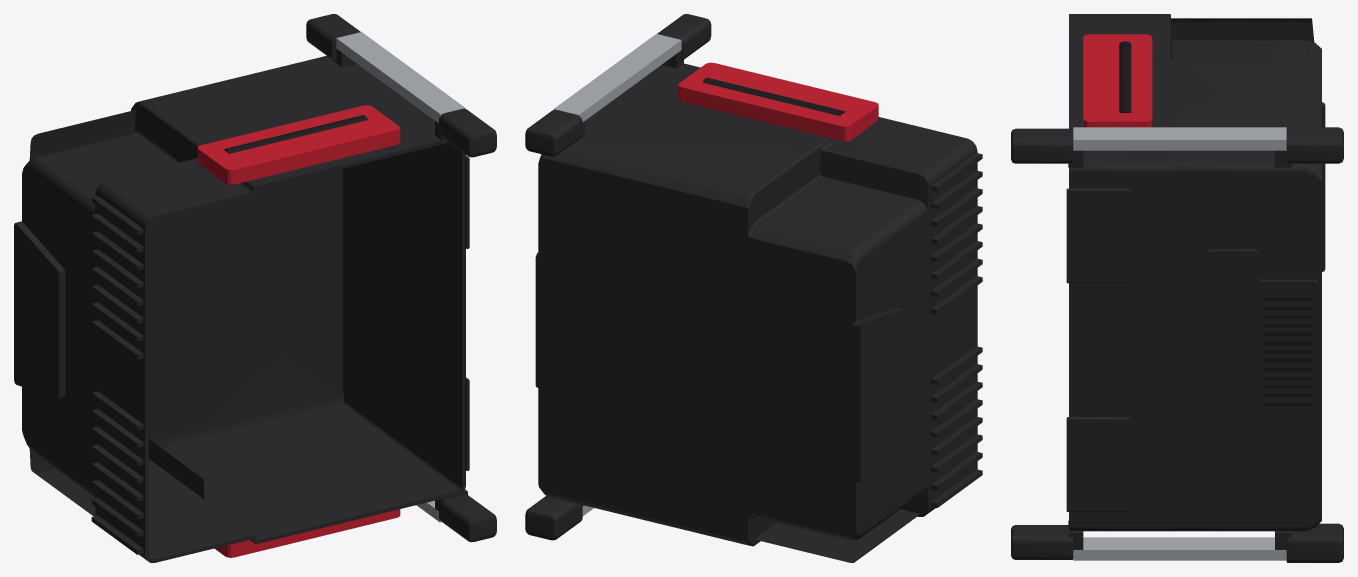
The picture shows the model from 3 angles, left to right: view 1: azimuth 30°, elevation 25°; view 2: azimuth 150°, elevation 25°; view 3: azimuth 270°, elevation 25°; orthographic projection. The views are drawn at different scales.
Parts seen in each view (by area): view 1: vana, bocni_madlo_ram_P, zad_opirka, lista_P, lista_hlavice_h_P, lista_hlavice_h_L, bocni_madlo_ram_L, lista_hlavice_d_P, bocni_madlo_uchop_P; view 2: vana, bocni_madlo_ram_P, zad_opirka, lista_P, lista_hlavice_d_P, lista_hlavice_d_L, lista_hlavice_h_P, bocni_madlo_uchop_P; view 3: vana, celo_panel, zamek_vylisP, zamek_vylisL, bocni_madlo_ram_P, lista_P, lista_L, lista_hlavice_h_P, lista_hlavice_h_L, lista_hlavice_d_P, lista_hlavice_d_L, bocni_madlo_uchop_P (+1 smaller).
Boxes of the visible parts, <box> form: vana: <box>22,55,465,562</box>; bocni_madlo_ram_P: <box>197,105,400,184</box>; zad_opirka: <box>14,221,65,398</box>; lista_P: <box>336,32,465,123</box>; lista_hlavice_h_P: <box>439,108,496,157</box>; lista_hlavice_h_L: <box>439,495,496,542</box>; bocni_madlo_ram_L: <box>214,509,400,557</box>; lista_hlavice_d_P: <box>306,14,360,61</box>; bocni_madlo_uchop_P: <box>224,115,367,153</box>; vana: <box>538,63,977,562</box>; bocni_madlo_ram_P: <box>678,62,878,141</box>; zad_opirka: <box>853,307,904,482</box>; lista_P: <box>553,34,681,121</box>; lista_hlavice_d_P: <box>525,110,582,156</box>; lista_hlavice_d_L: <box>525,496,582,540</box>; lista_hlavice_h_P: <box>657,14,711,60</box>; bocni_madlo_uchop_P: <box>702,77,845,115</box>; vana: <box>1069,14,1321,531</box>; celo_panel: <box>1201,249,1318,452</box>; zamek_vylisP: <box>1066,188,1130,283</box>; zamek_vylisL: <box>1066,417,1130,511</box>; bocni_madlo_ram_P: <box>1083,34,1152,127</box>; lista_P: <box>1073,127,1286,150</box>; lista_L: <box>1073,537,1286,560</box>; lista_hlavice_h_P: <box>1011,128,1073,163</box>; lista_hlavice_h_L: <box>1011,525,1073,559</box>; lista_hlavice_d_P: <box>1286,127,1343,163</box>; lista_hlavice_d_L: <box>1286,523,1343,562</box>; bocni_madlo_uchop_P: <box>1119,41,1131,112</box>.
Bounding box in the file's own units: 469 × 556 × 396.
